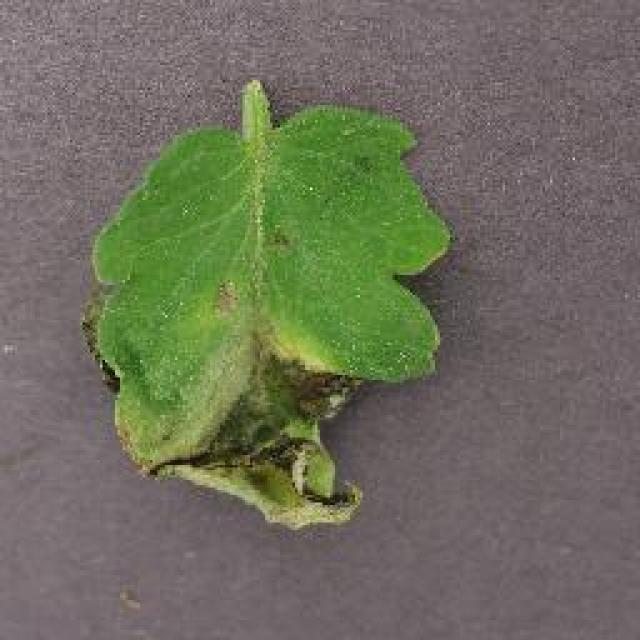Tomato Late Blight: (158, 355, 402, 533)
